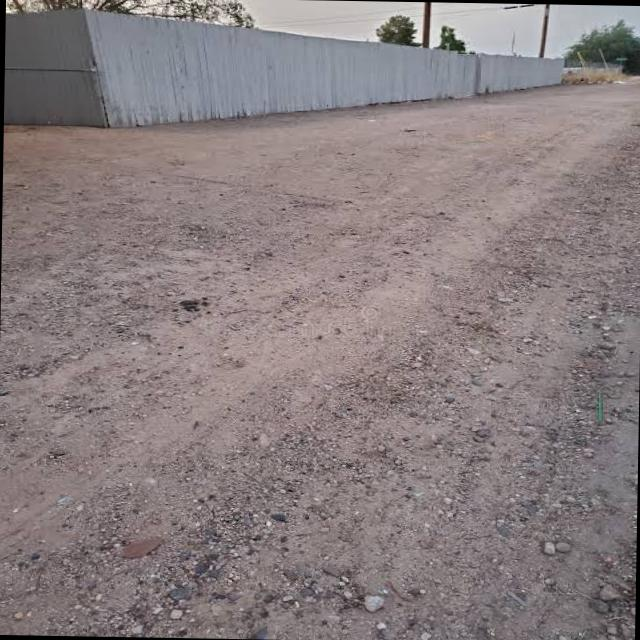suelo_seco: (108, 140, 564, 584)
